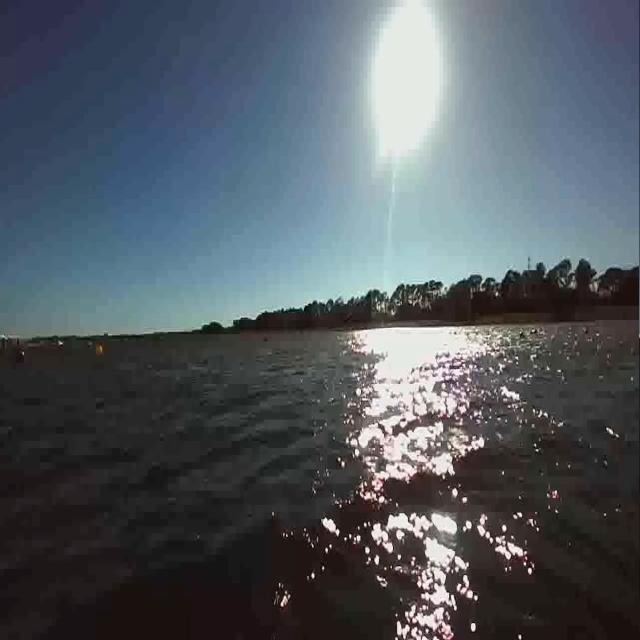black-buoy: (16, 350, 26, 361)
yellow-buoy: (96, 342, 103, 357)
